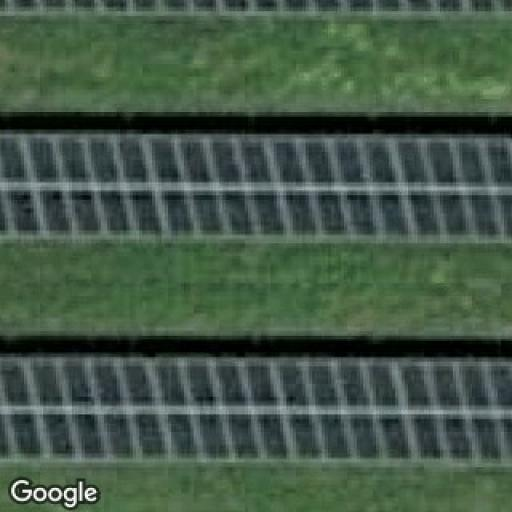solar-panel: (0, 130, 512, 246), (0, 357, 512, 467), (0, 0, 512, 22)
